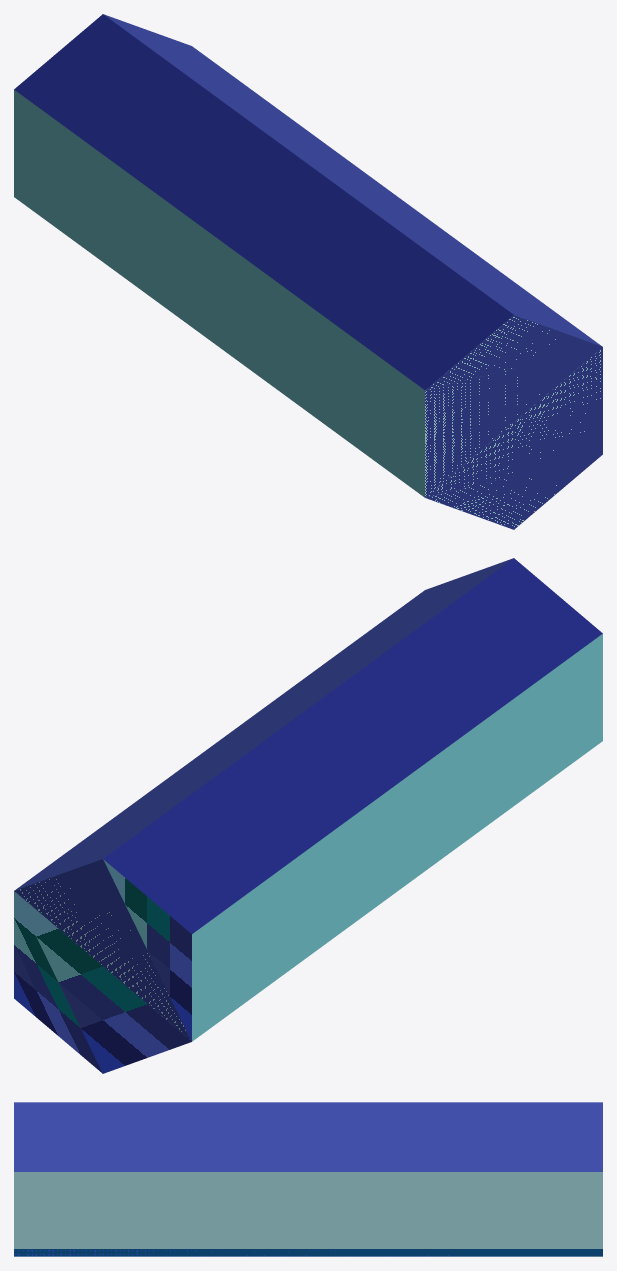
File: hexa_column3.obj
3 views of the same model, one above another, from view 1: azimuth 30°, elevation 25°; view 2: azimuth 150°, elevation 25°; view 3: azimuth 270°, elevation 25° (orthographic). The views are drawn at different scales.
Parts seen in each view (by area): view 1: hexa_column_500_2000; view 2: hexa_column_500_2000; view 3: hexa_column_500_2000.
Part boxes in pixels (bbox=[...]): hexa_column_500_2000: bbox=[14, 14, 602, 529]; hexa_column_500_2000: bbox=[14, 558, 602, 1073]; hexa_column_500_2000: bbox=[14, 1102, 602, 1256].
Bounding box in the file's own units: 0.5 × 0.5774 × 2.
Materials: 1 (1 with a texture image).
